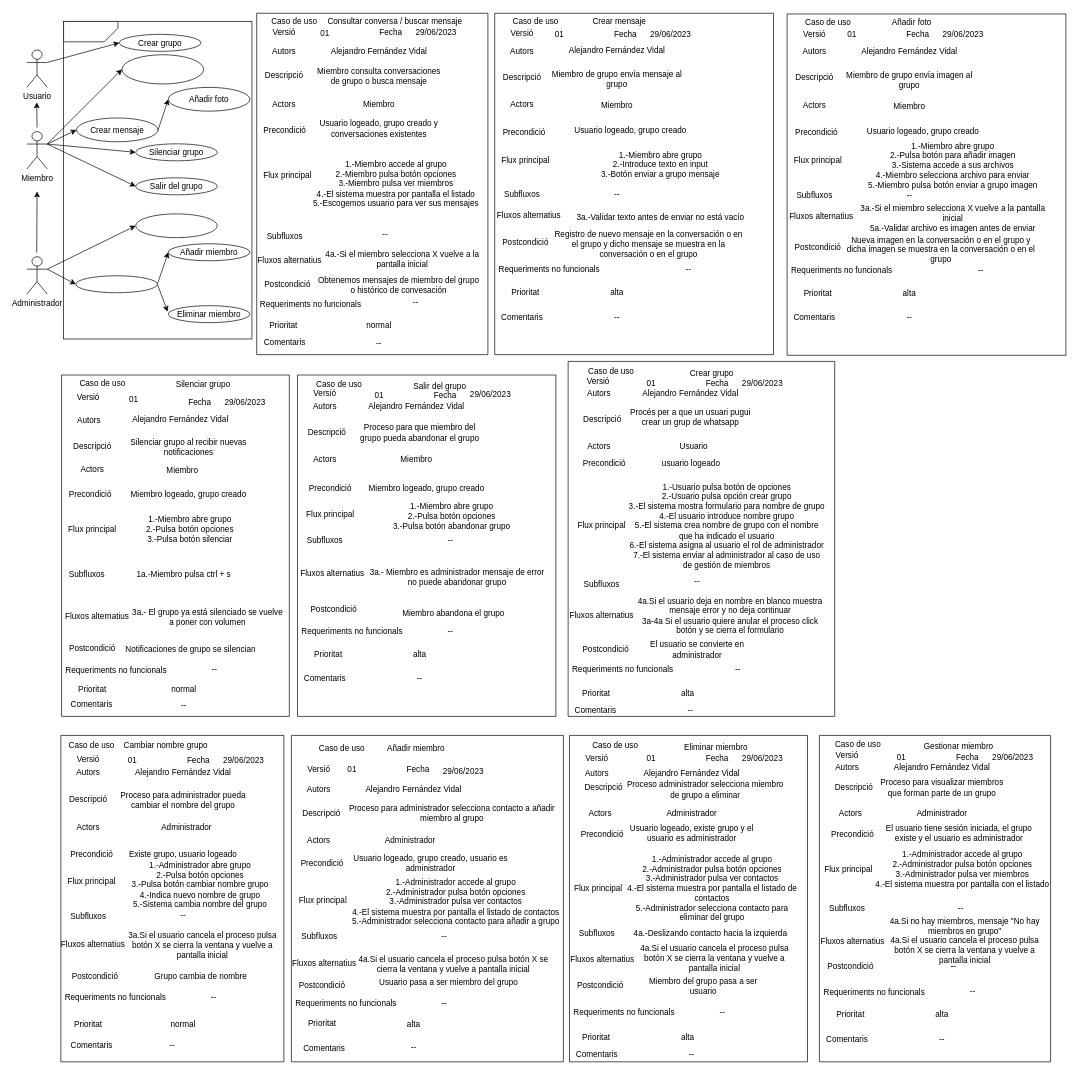
Image size: 1078x1076. Some labels were removed from this diagram. The shapes that lost their labels are listed below. From the top down, each one's box as (x1, y1, x2, y2) in pixels, then its label:
(70, 24, 105, 38): whatsapp
(121, 54, 204, 84): Consultar conversa Cerca missatge
(135, 213, 217, 238): Cambiar nombre
(75, 275, 157, 293): Gestión miembro
